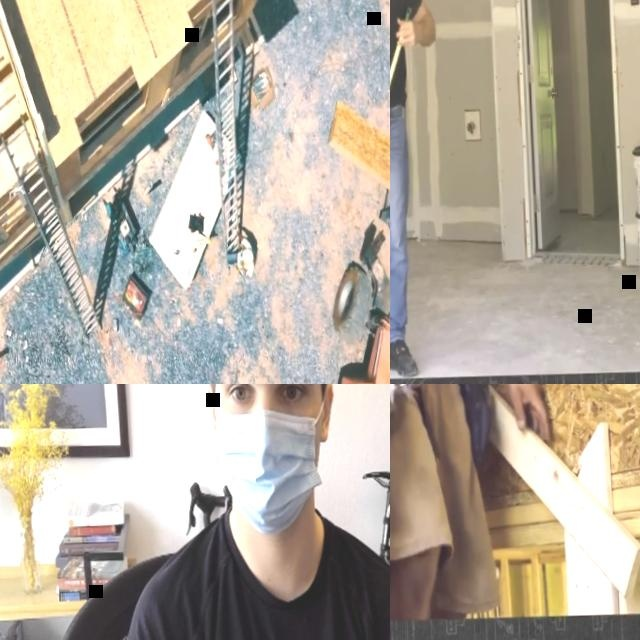Hardhat: (241, 248, 253, 263)
Mask: (210, 384, 339, 538)
NO-Safety Vest: (161, 508, 390, 640)
Person: (85, 384, 390, 640), (390, 384, 555, 615), (390, 0, 448, 379), (235, 228, 254, 278)
machinery: (289, 200, 390, 384)
